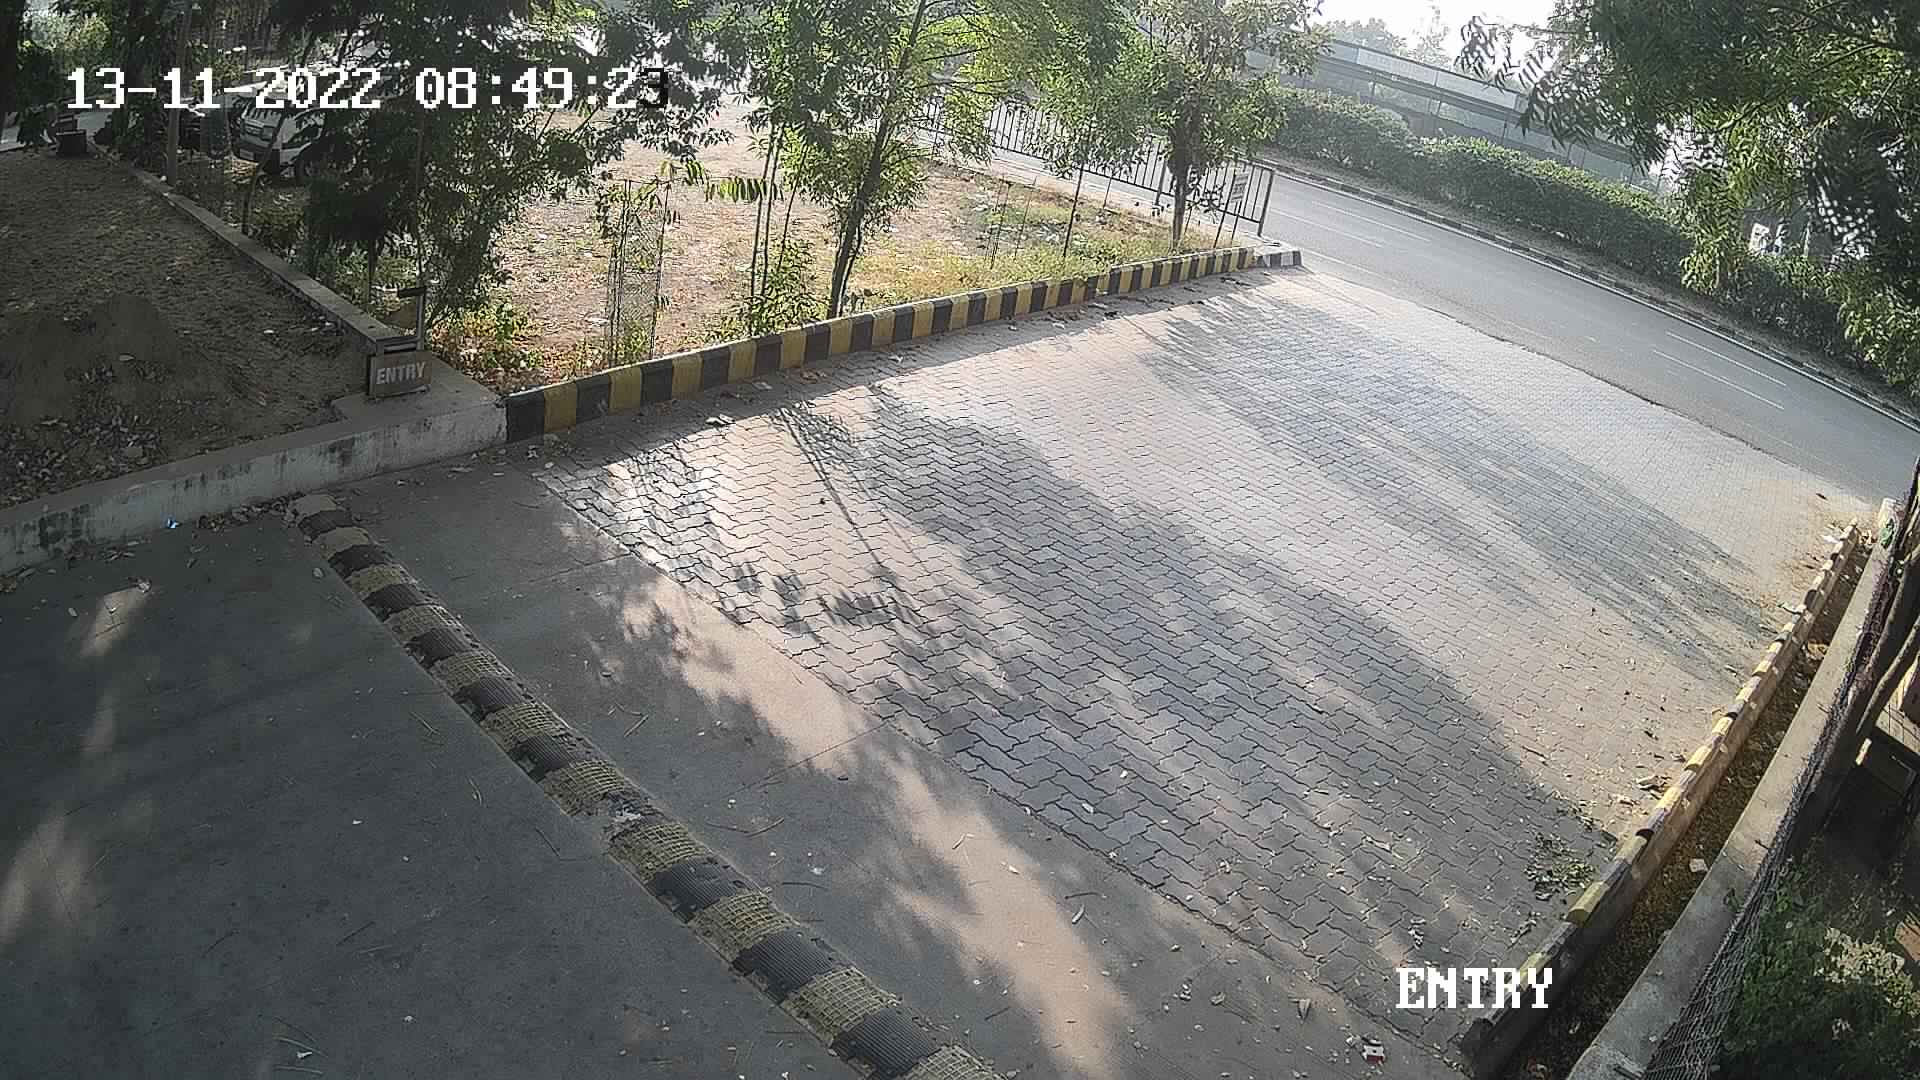Car: (229, 41, 339, 189)
